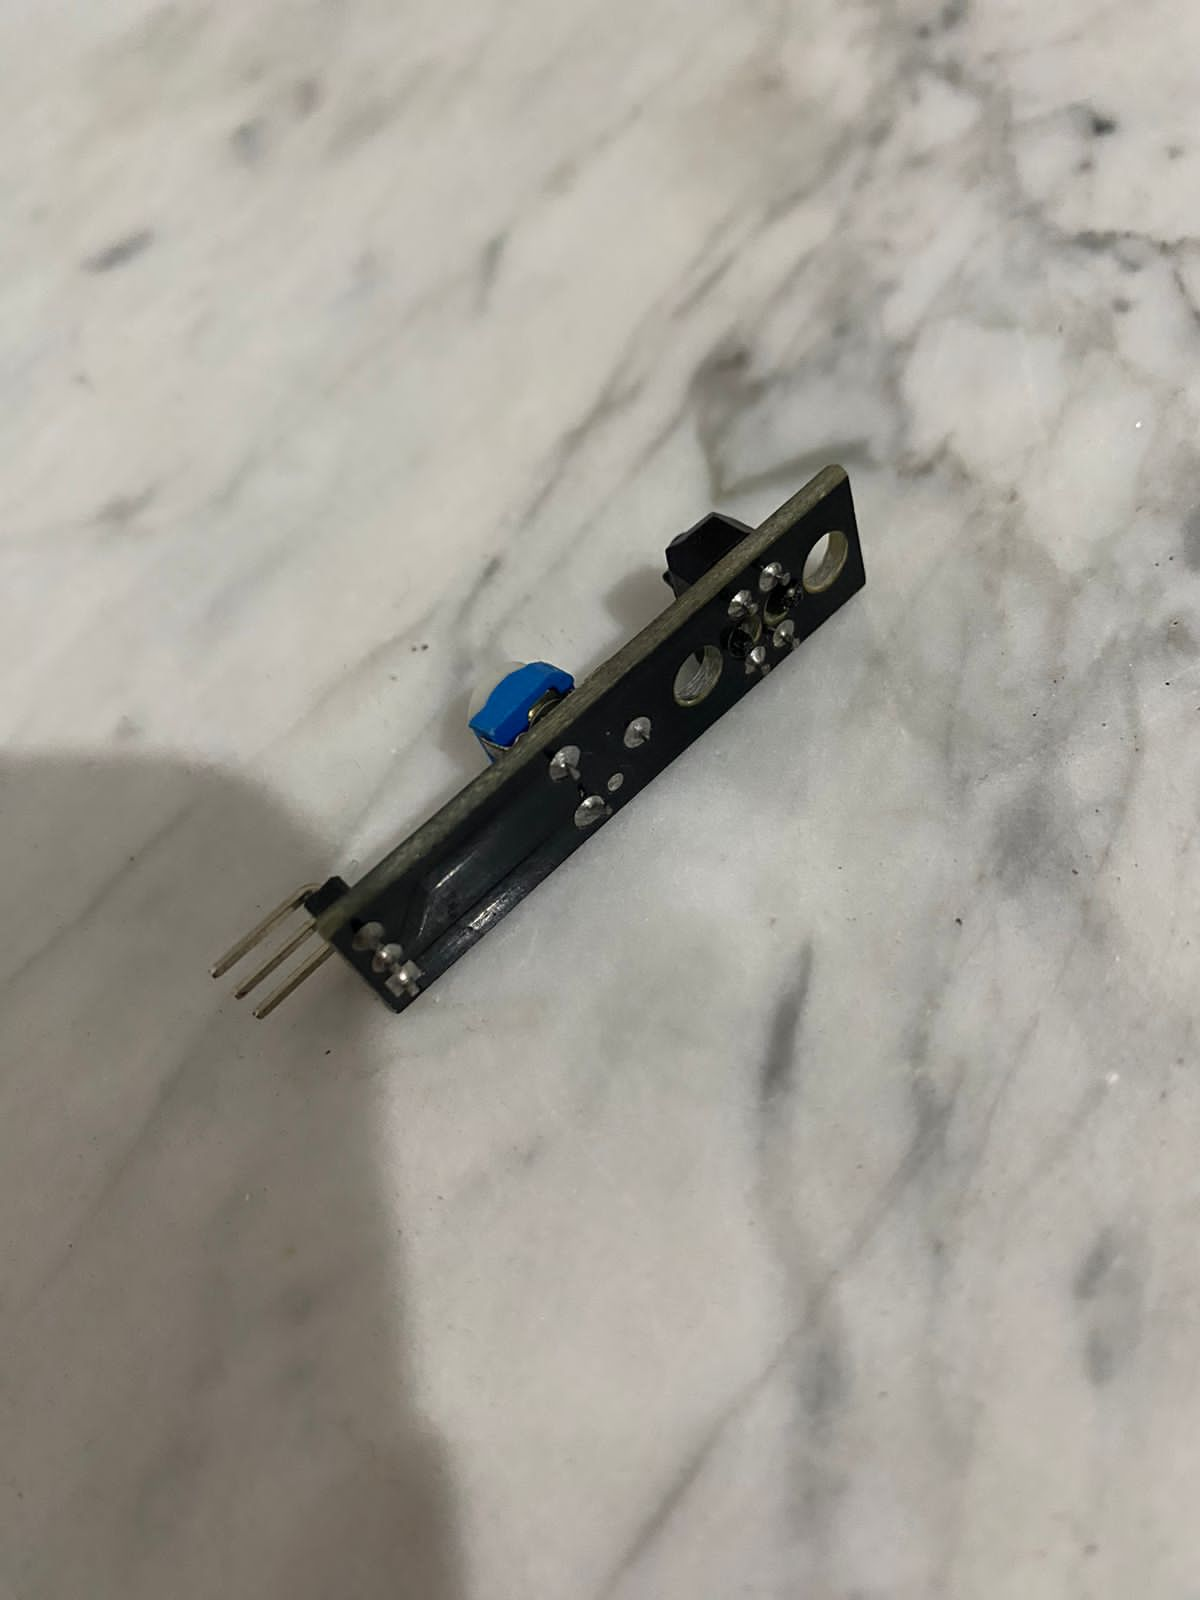ir-sensor: (204, 455, 867, 1049)
